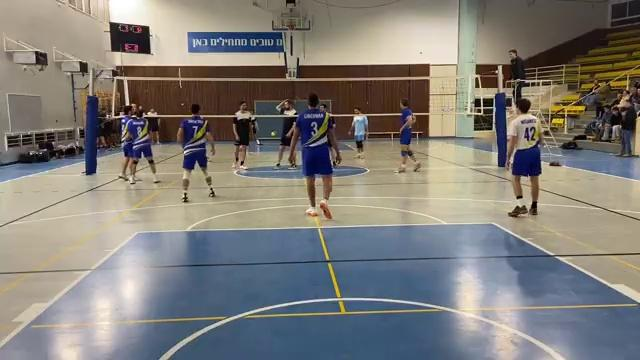ball: (271, 128, 280, 141)
